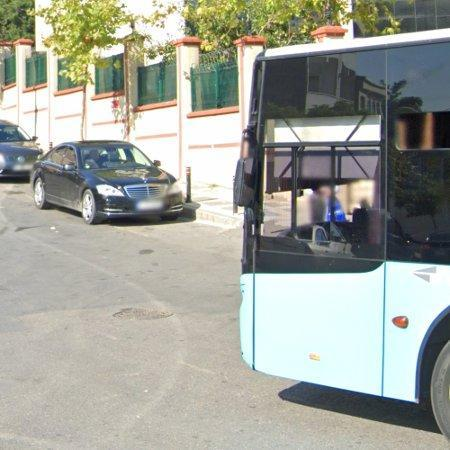buses: (235, 30, 450, 436)
